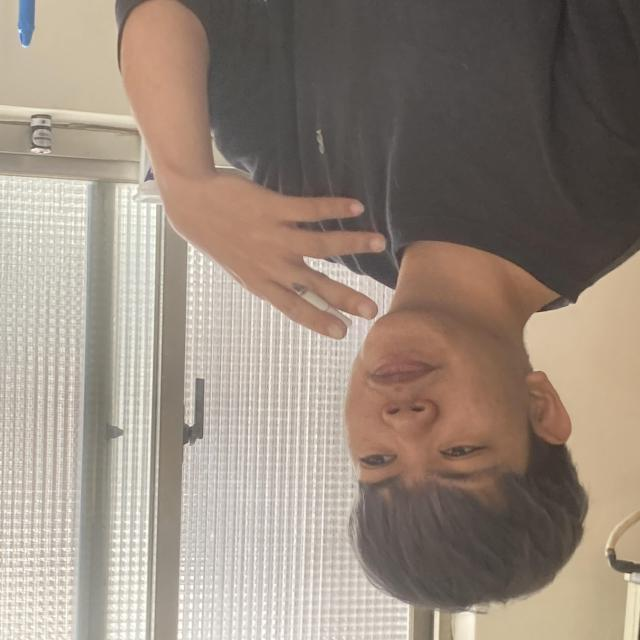cigarette: (274, 262, 356, 338)
